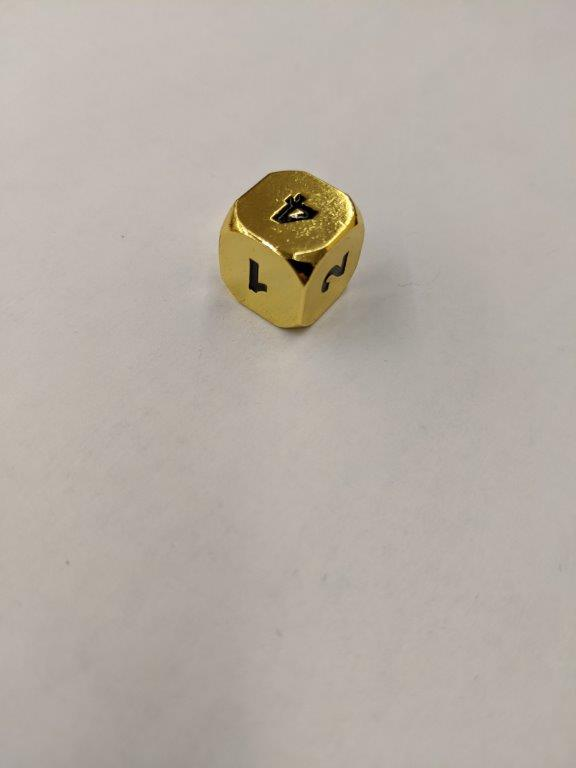d6-4: (217, 167, 365, 329)
